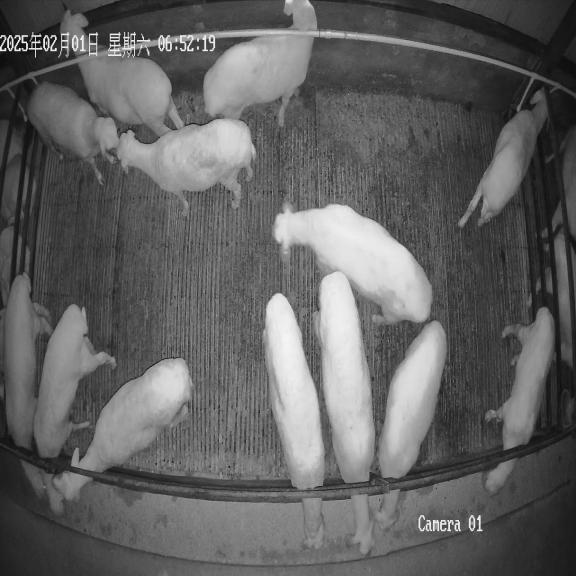eating: (53, 358, 192, 500), (314, 271, 375, 555), (34, 304, 116, 514), (372, 320, 447, 531), (263, 293, 325, 548), (483, 307, 555, 493), (4, 274, 50, 503)
stand: (272, 203, 432, 324), (60, 6, 184, 136), (203, 0, 317, 126), (116, 119, 256, 215), (459, 90, 548, 228), (27, 82, 117, 185)
